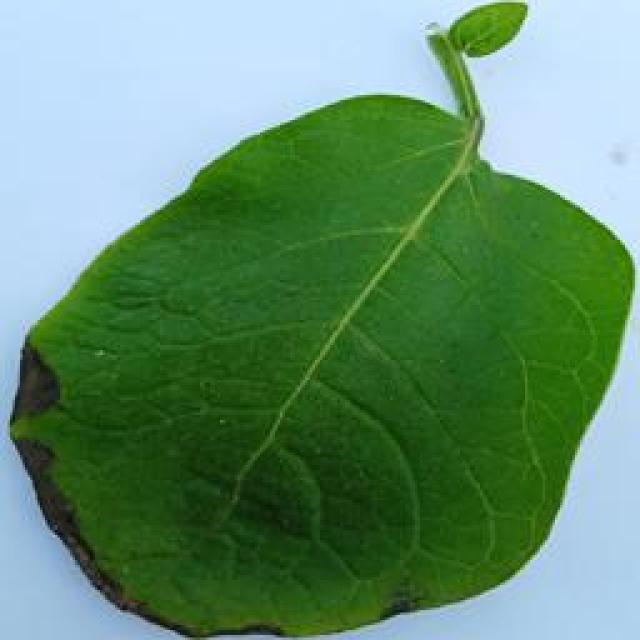Potato_Late_Blight: (10, 12, 624, 636)
